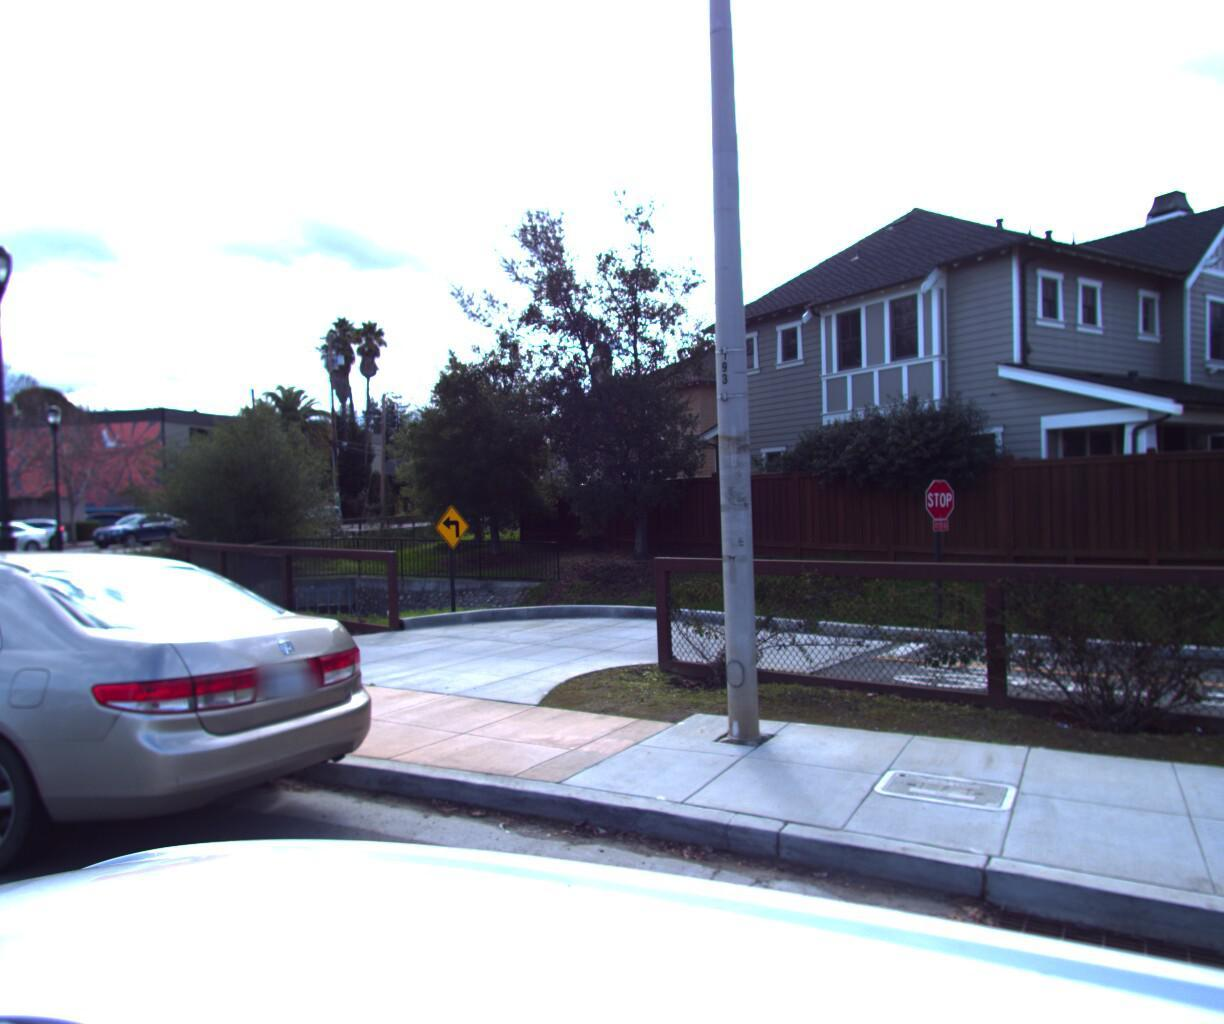car: (0, 535, 429, 916), (83, 509, 187, 546), (0, 513, 71, 555), (0, 519, 53, 560), (76, 504, 151, 531)
